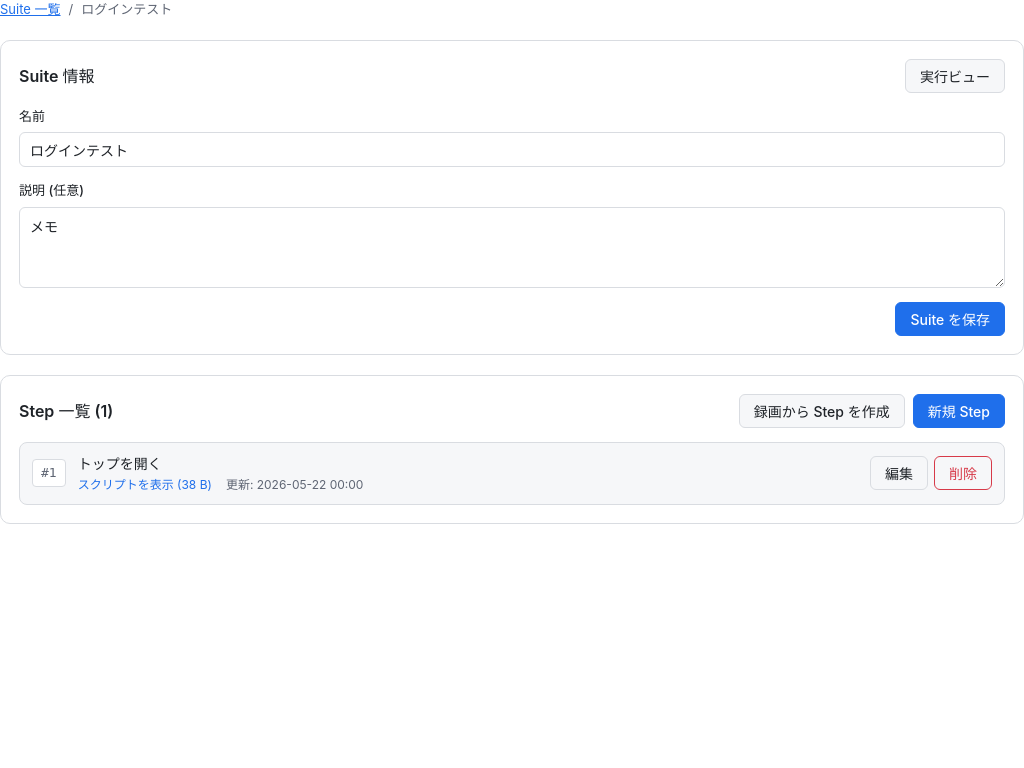
Test: SuiteEditPage › CodegenDialog 連携 › codegen 完了で StepEditModal が録画スクリプトを初期値として開く
expect the text "トップを開く" is shown: met, box [78, 454, 162, 472]
Click the button "録画から Step を作成".
click(822, 410)  # box [739, 394, 905, 428]
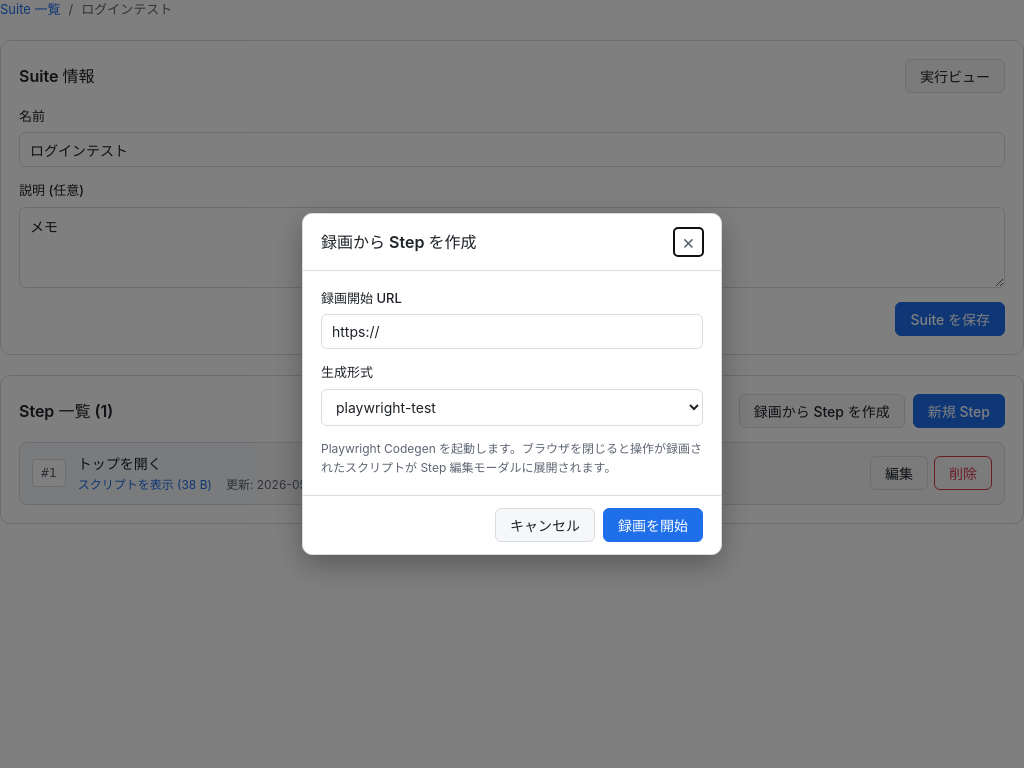
Replace the text in the field labelled "録画開始 URL" with "https://recorded.example.com" at {"x": 512, "y": 332}, box [321, 314, 703, 349]
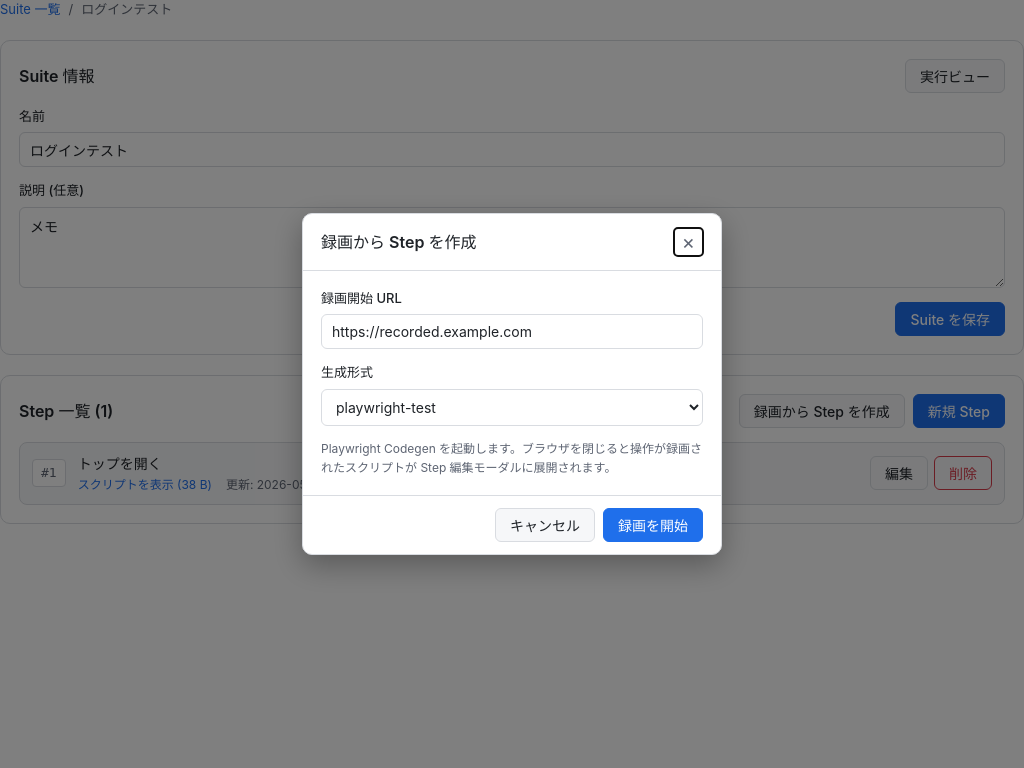
Click the button "録画を開始".
click(653, 525)  # box [603, 508, 703, 542]
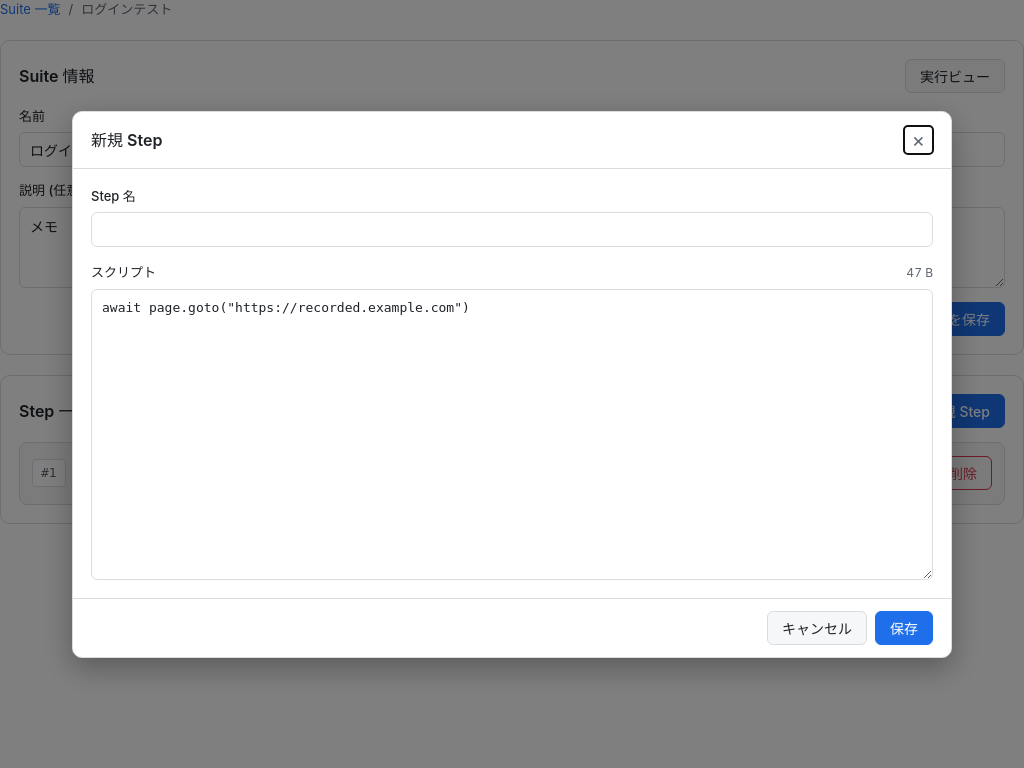
expect the text box labelled "スクリプト" holds "await page.goto(\"https://recorded.example.com\")": met, box [91, 288, 933, 580]
expect the heading "新規 Step" is shown: met, box [91, 128, 162, 152]
